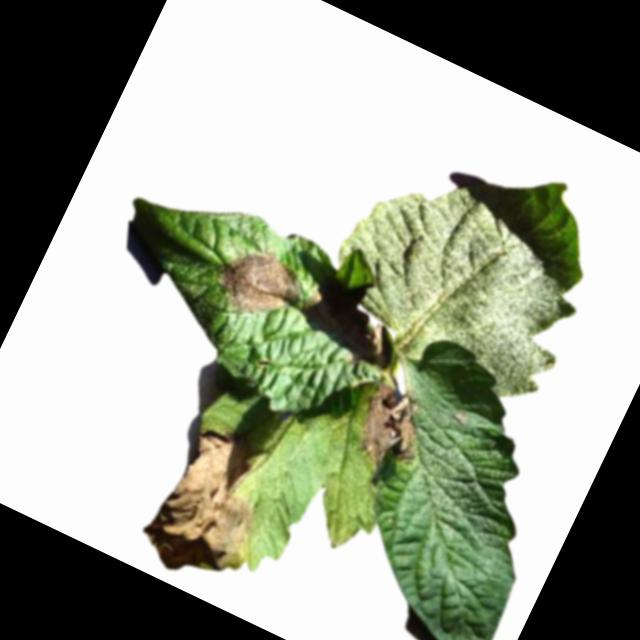Late_blight: (130, 416, 297, 600), (203, 234, 312, 334), (342, 377, 441, 481), (358, 318, 390, 355), (302, 288, 324, 313)
healthy: (308, 105, 628, 414)
